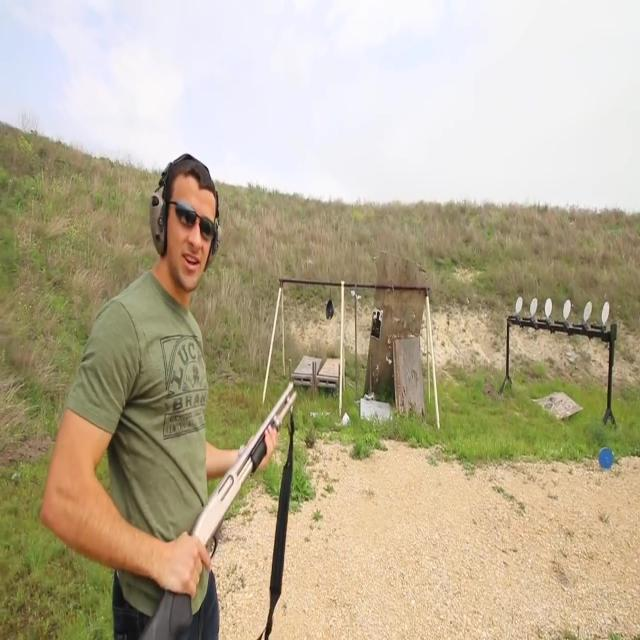Weapon: (128, 376, 307, 638)
